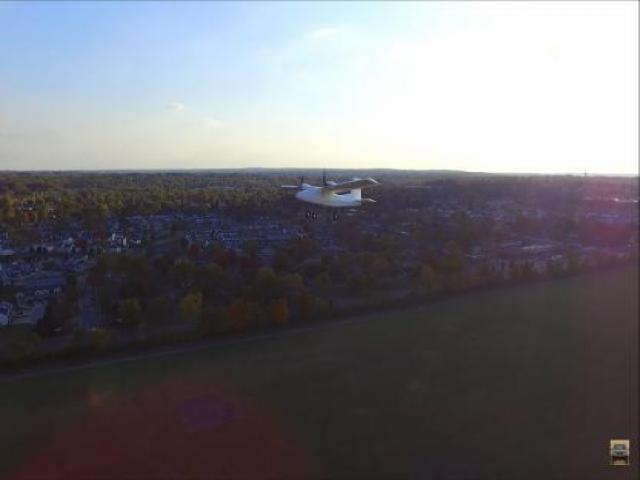uav: (280, 175, 380, 208)
